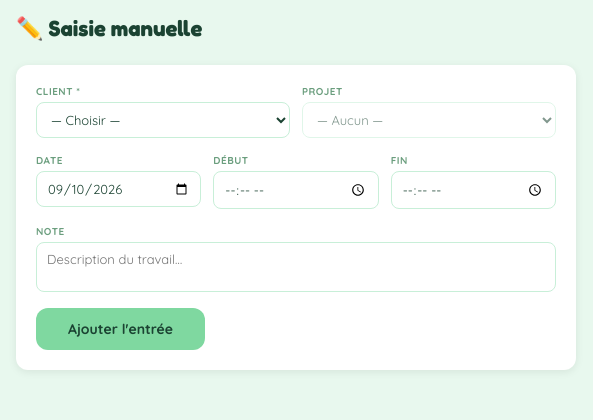
Scenario: Saisie › affiche une erreur si fin <= début
The image size is (593, 420).
Select "Studio Lumière" in the dropdown labelled "Client *" at (163, 120), box [36, 102, 290, 138]
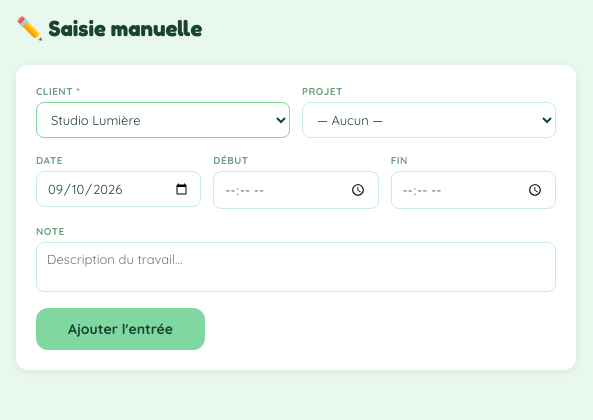
Type "10:00" into the time field labelled "Début" at (296, 190), box [213, 171, 379, 209]
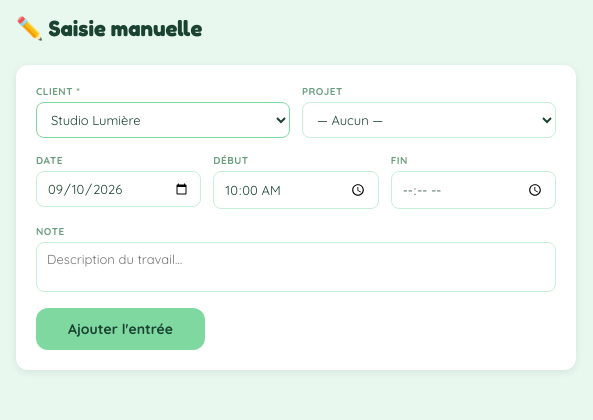
Type "09:00" into the time field labelled "Fin" at (473, 190), box [391, 171, 556, 209]
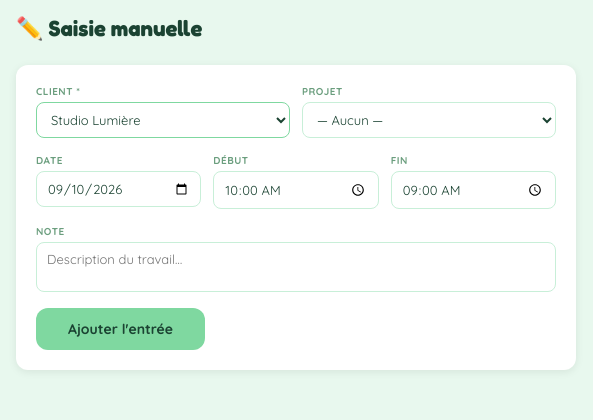
Click the button "Ajouter l'entrée" at (120, 329), box [36, 308, 205, 350]
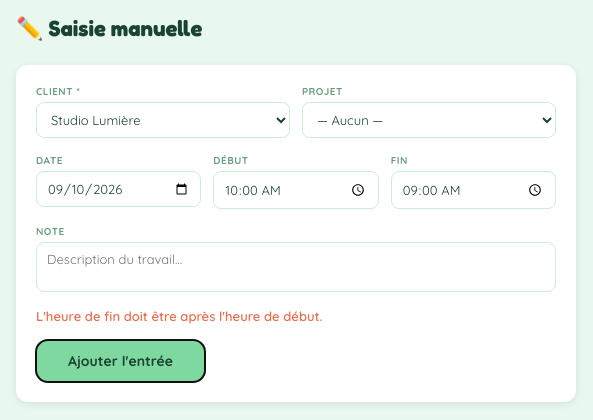
expect the message shows "fin": met, box [36, 308, 322, 324]
